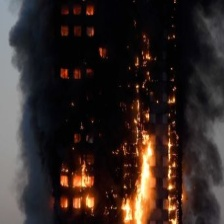fire: (118, 131, 162, 224), (60, 7, 109, 83), (123, 38, 156, 128), (166, 129, 188, 224), (57, 161, 97, 212), (166, 35, 176, 109)
smoke: (7, 2, 52, 221), (181, 1, 222, 224)
